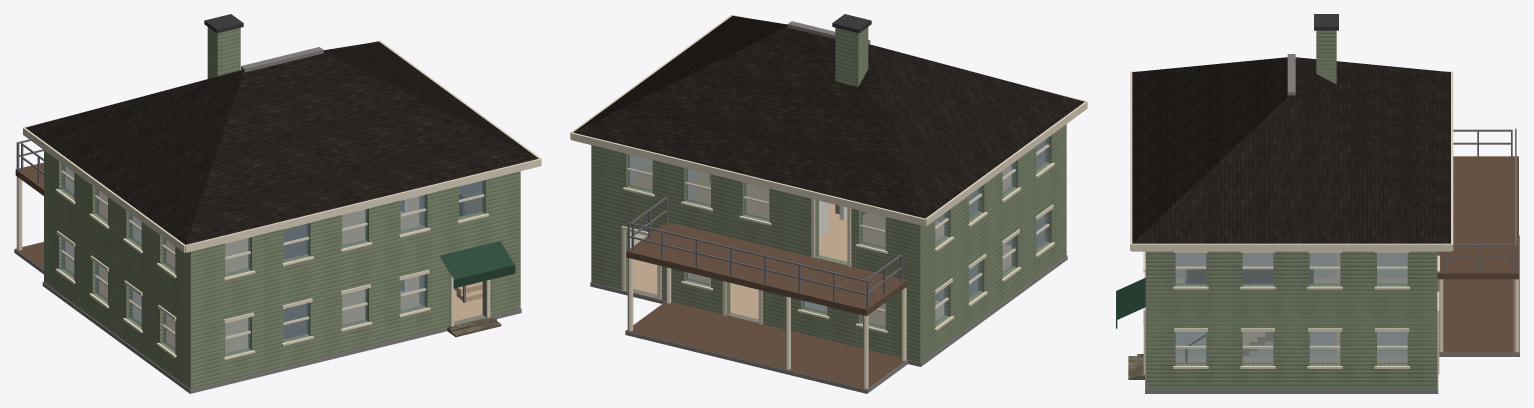
The model's file is ns-fourplex.towns-v1.lod0.glb.
3 views of the same model, side by side, from view 1: azimuth 30°, elevation 25°; view 2: azimuth 150°, elevation 25°; view 3: azimuth 270°, elevation 25° (orthographic).
Visible parts, largest first — view 1: ns-fourplex; view 2: ns-fourplex; view 3: ns-fourplex.
Part boxes in pixels (<box>): ns-fourplex: <box>14,14,541,393</box>; ns-fourplex: <box>570,14,1087,393</box>; ns-fourplex: <box>1116,14,1519,393</box>.
Size of the model in its own units: 14.08 by 10.34 by 13.85.
Materials: 7 (3 with a texture image).
